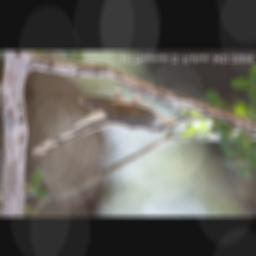Cuckoo: (29, 78, 187, 162)
